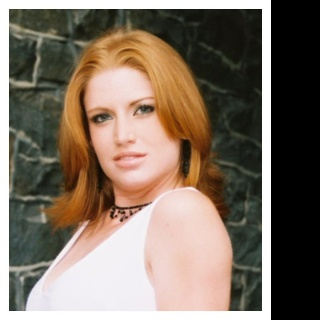without_mask: (83, 66, 180, 190)
